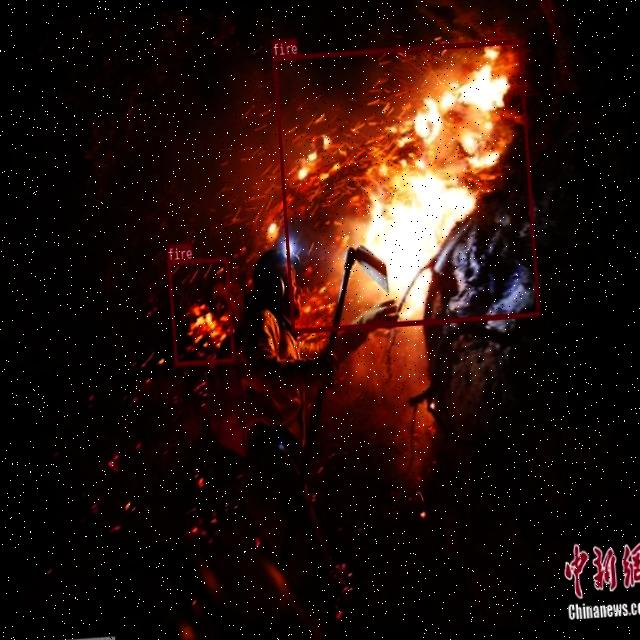fire: (272, 37, 540, 332), (167, 256, 234, 366)
